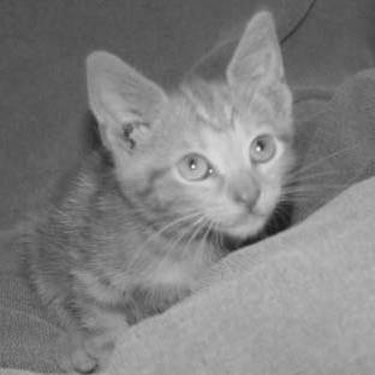cat: (20, 6, 335, 373)
